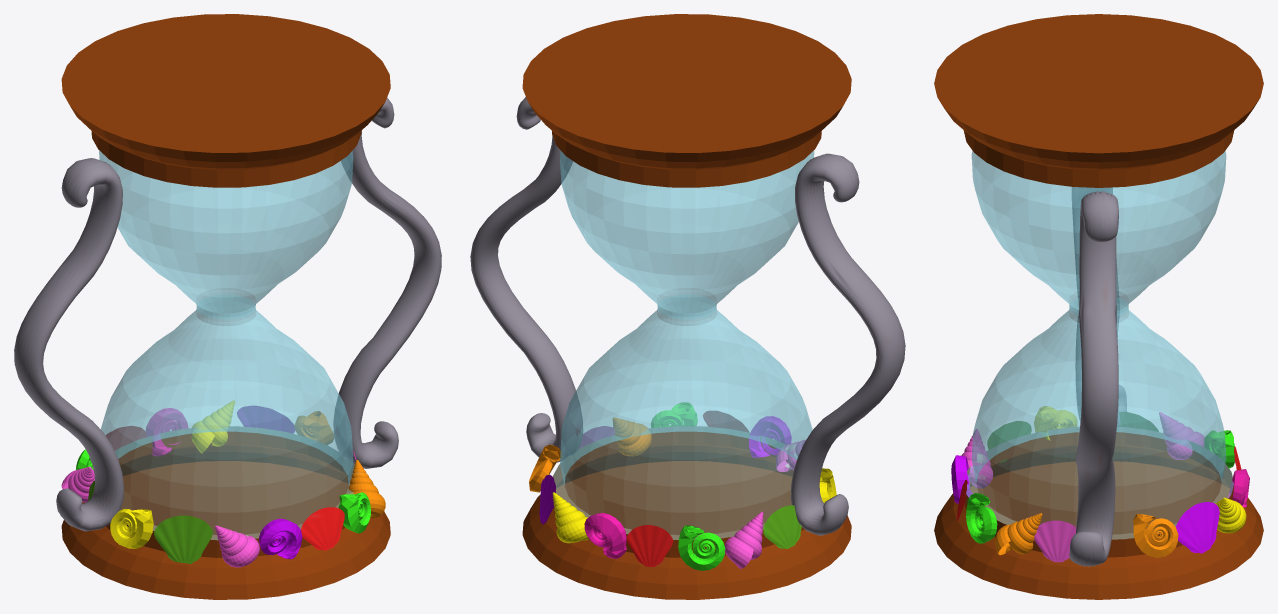
Rendered from Ampulheta.fbx.
3 views of the same model, side by side, from view 1: azimuth 30°, elevation 25°; view 2: azimuth 150°, elevation 25°; view 3: azimuth 270°, elevation 25° (orthographic).
Visible parts, largest first — view 1: Simples.002; view 2: Simples.002; view 3: Simples.002.
Boxes of the visible parts, left/top/right/bottom form: Simples.002: left=14, top=14, right=441, bottom=599; Simples.002: left=470, top=14, right=905, bottom=599; Simples.002: left=934, top=14, right=1263, bottom=599.
Size of the model in its own units: 435 by 439 by 294.
Materials: 3 (3 with a texture image).
